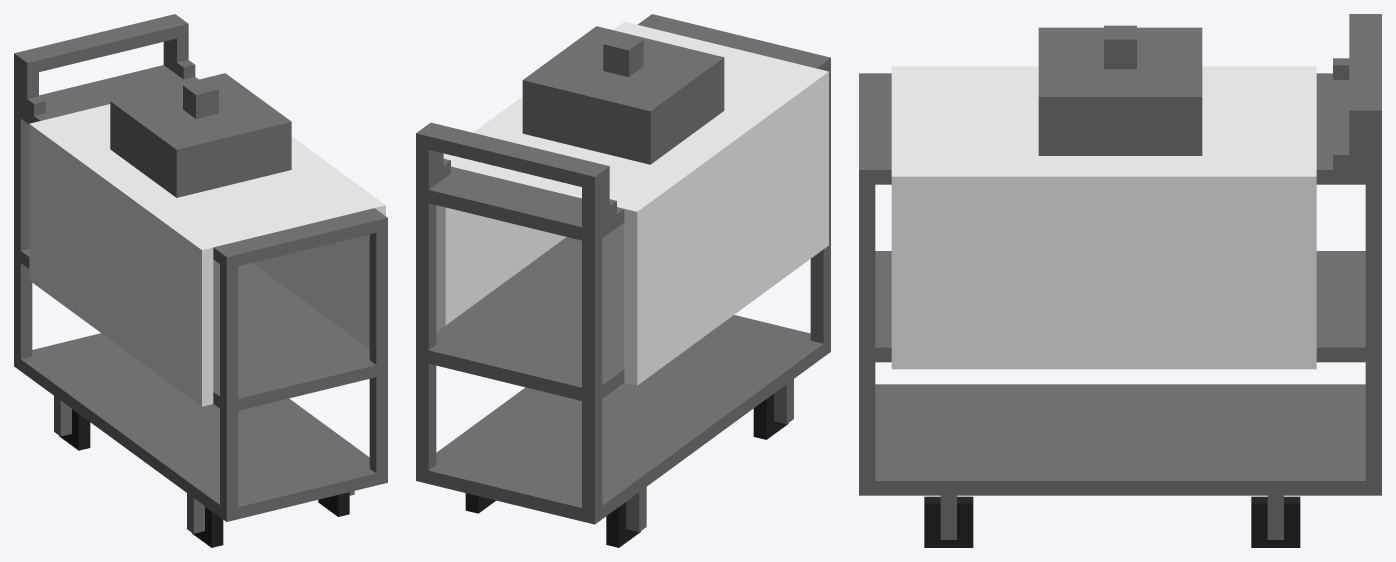
Rendered from FoodTrolley01.fbx.
3 renders of one model, left to right at view 1: azimuth 30°, elevation 25°; view 2: azimuth 150°, elevation 25°; view 3: azimuth 270°, elevation 25°, orthographic. The views are drawn at different scales.
Visible parts, largest first — view 1: Matrix; view 2: Matrix; view 3: Matrix.
Part boxes in pixels (x1,y1,x2,y2): Matrix: (14, 14, 387, 547); Matrix: (416, 14, 830, 547); Matrix: (859, 14, 1381, 547).
Size of the model in its own units: 16 by 32 by 32.
